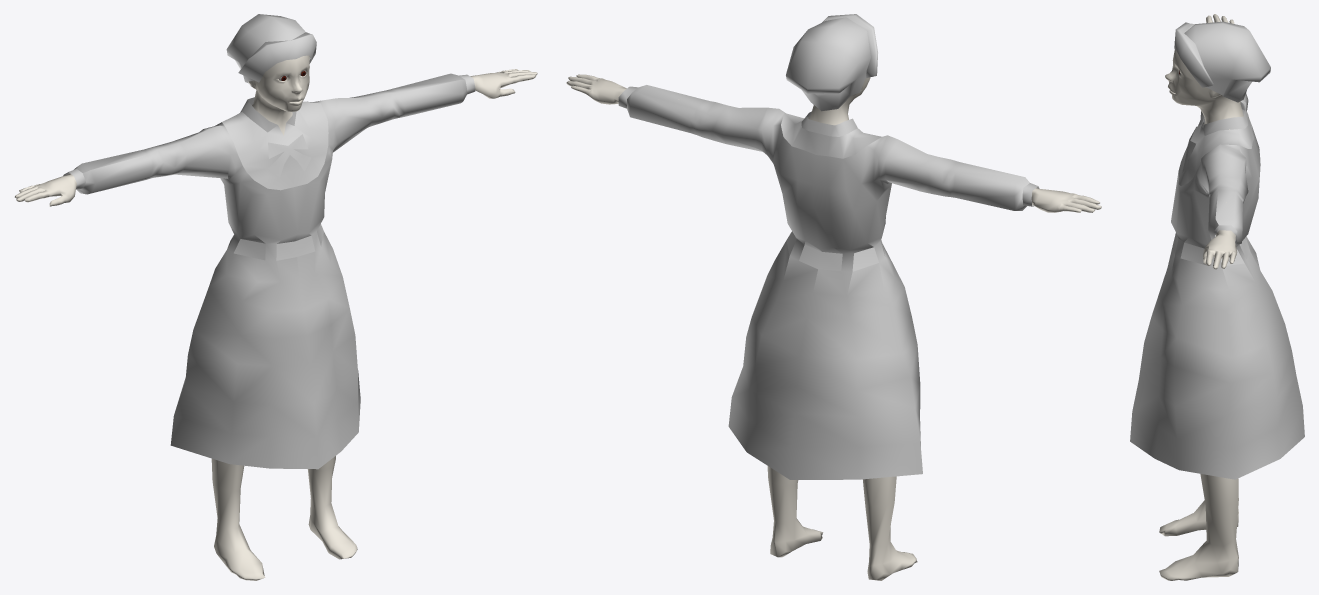
File: Roupa.fbx
3 renders of one model, left to right at view 1: azimuth 30°, elevation 25°; view 2: azimuth 150°, elevation 25°; view 3: azimuth 270°, elevation 25°, orthographic. The views are drawn at different scales.
Parts seen in each view (by area): view 1: Cabeça, male1591Mesh; view 2: Cabeça, male1591Mesh; view 3: Cabeça, male1591Mesh.
Boxes of the visible parts, x1,y1,x2,y2 form: Cabeça: (63,14,475,469); male1591Mesh: (14,55,537,580); Cabeça: (618,14,1039,479); male1591Mesh: (566,74,1101,580); Cabeça: (1130,21,1304,479); male1591Mesh: (1159,14,1243,580).
Bounding box in the file's own units: 465 × 453 × 136.
